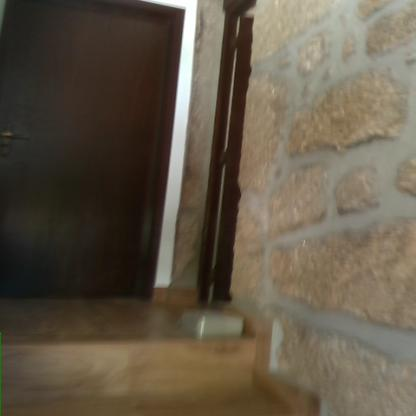closed: (0, 0, 194, 305)
